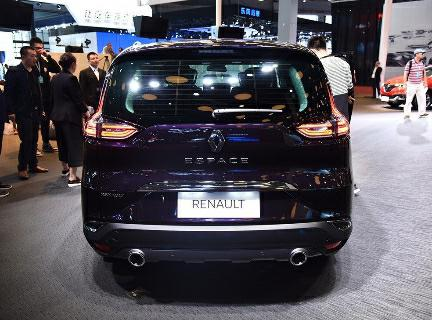雷诺-Espace: (78, 37, 360, 282)
